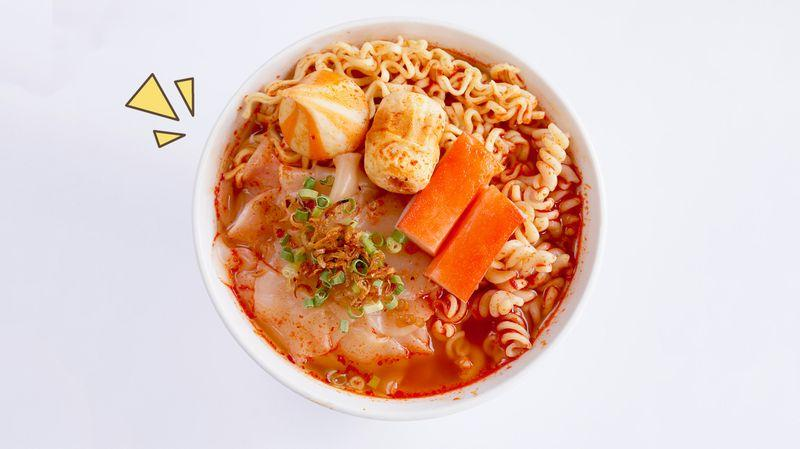seblak: (217, 41, 584, 397)
